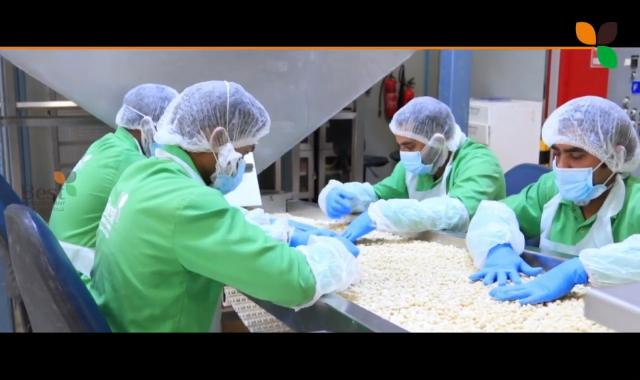hairnet: (158, 80, 275, 149), (544, 93, 640, 172), (389, 93, 463, 156), (113, 82, 177, 134)
